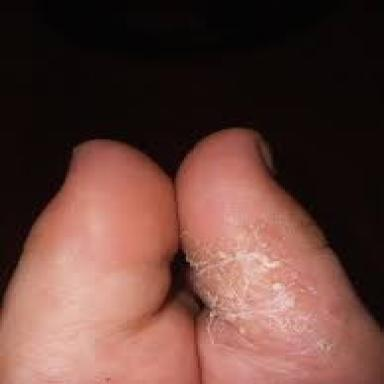eczema: (177, 212, 343, 364)
